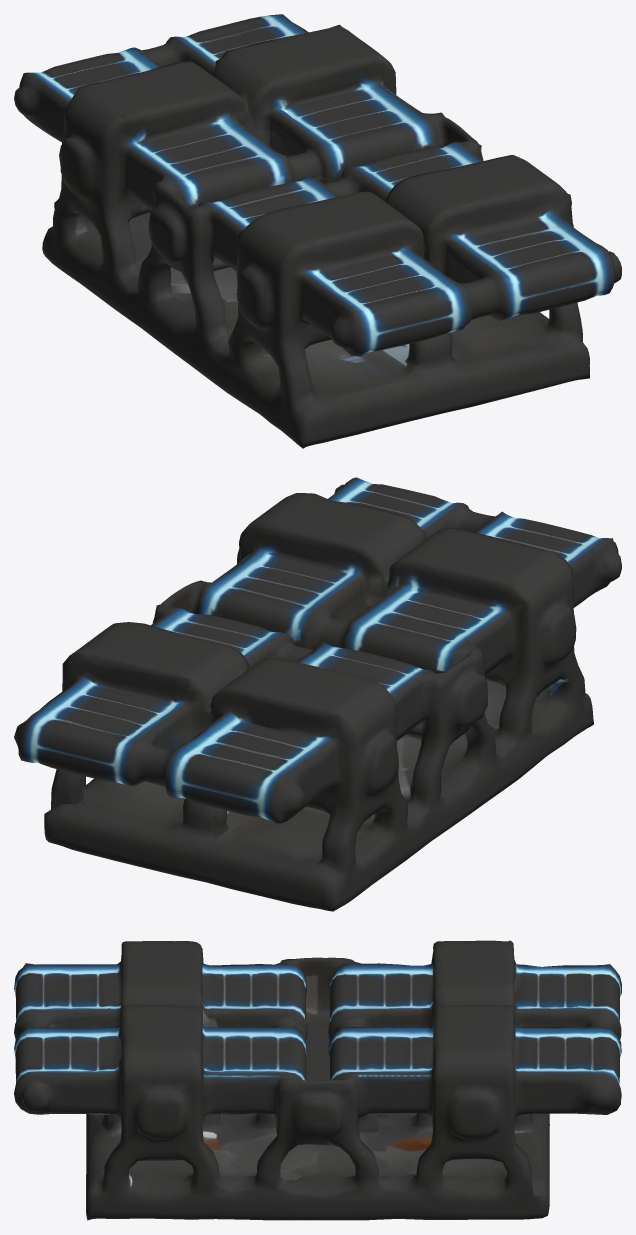
File: Plataform02.fbx
3 views of the same model, one above another, from view 1: azimuth 30°, elevation 25°; view 2: azimuth 150°, elevation 25°; view 3: azimuth 270°, elevation 25° (orthographic). The views are drawn at different scales.
Parts seen in each view (by area): view 1: tripo_node_901ba75b; view 2: tripo_node_901ba75b; view 3: tripo_node_901ba75b.
Part boxes in pixels (left/top/right/bottom): tripo_node_901ba75b: left=14, top=14, right=621, bottom=448; tripo_node_901ba75b: left=14, top=477, right=621, bottom=911; tripo_node_901ba75b: left=14, top=940, right=621, bottom=1220.
Size of the model in its own units: 53.08 by 29.47 by 99.87.
Materials: 1 (1 with a texture image).
